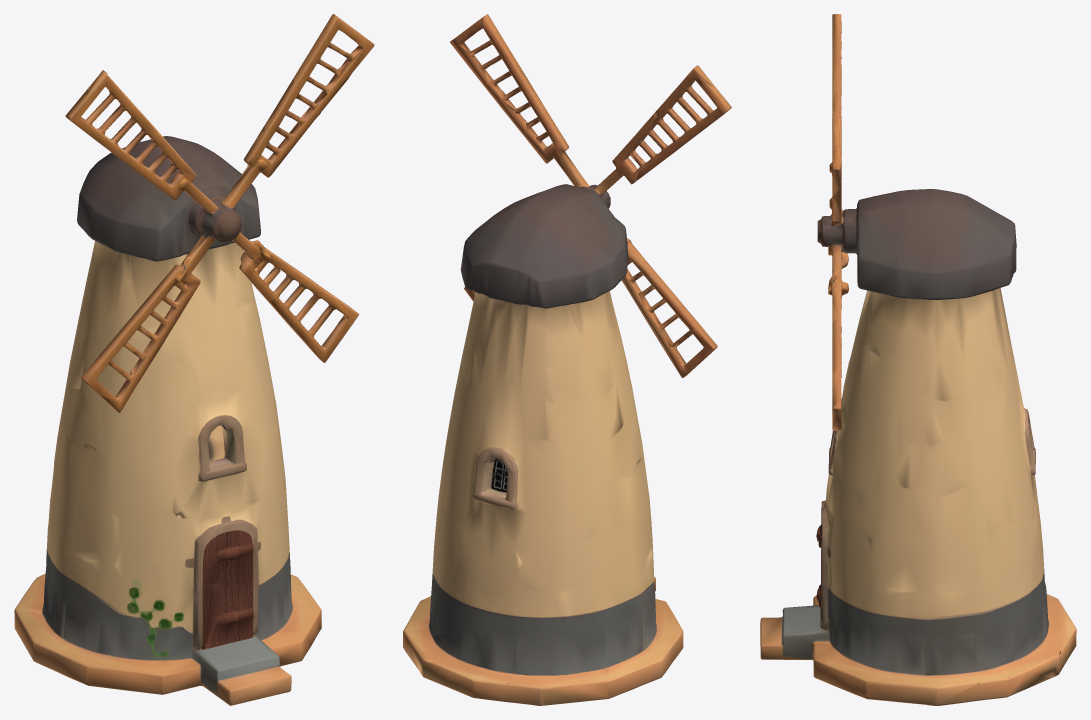
The model's file is windmill.glb.
3 views of the same model, side by side, from view 1: azimuth 30°, elevation 25°; view 2: azimuth 150°, elevation 25°; view 3: azimuth 270°, elevation 25° (orthographic). The views are drawn at different scales.
Size of the model in its own units: 0.9741 by 1.91 by 0.9429.
1 material, 1 textured.
